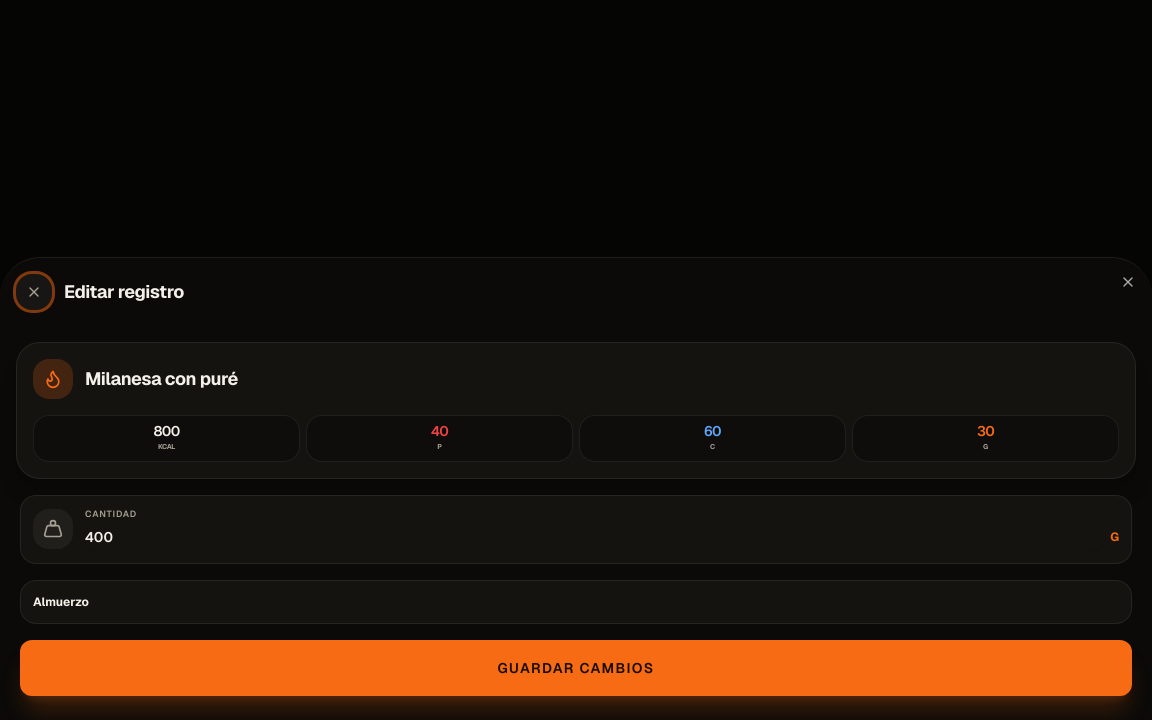
EditEntrySheet › refuses to save an empty amount
The width and height of the screenshot is (1152, 720).
Clear the number field named "Cantidad": (594, 537) [85,523,1102,551]
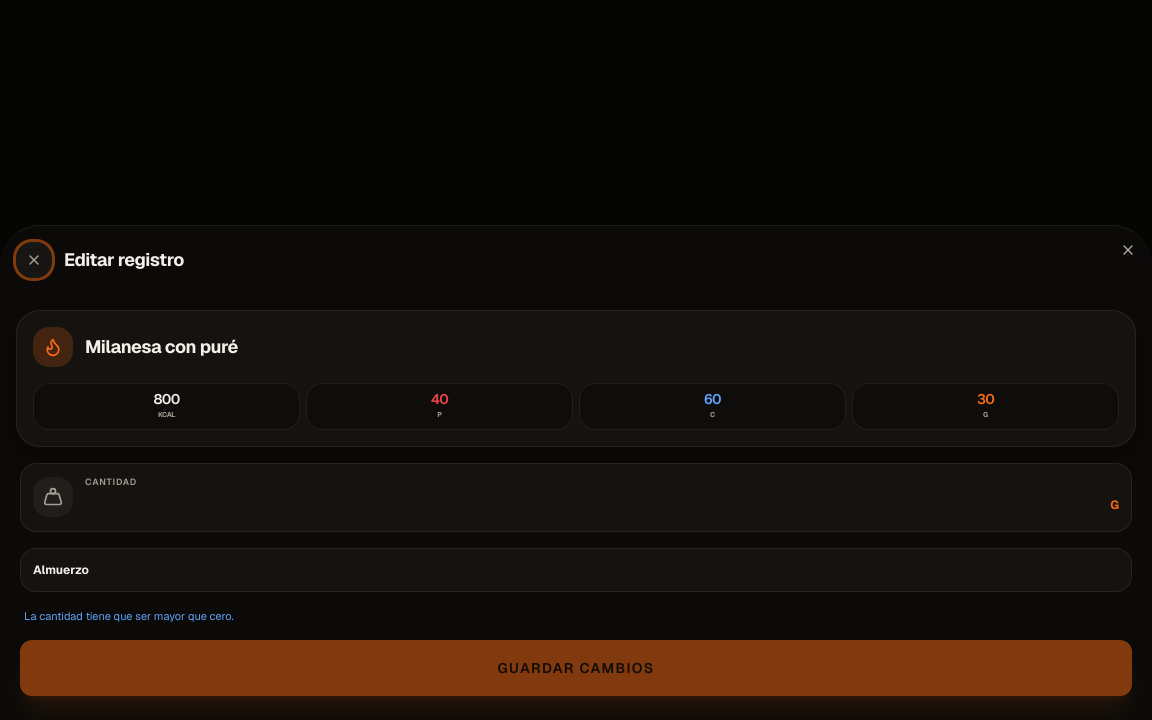
Result: the button "Guardar Cambios" is disabled at [20,640,1132,696]
